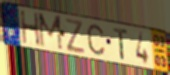4: (134, 30, 151, 66)
C: (86, 23, 106, 57)
H: (19, 10, 42, 48)
M: (37, 12, 65, 53)
T: (112, 27, 129, 62)
Z: (64, 17, 85, 56)
